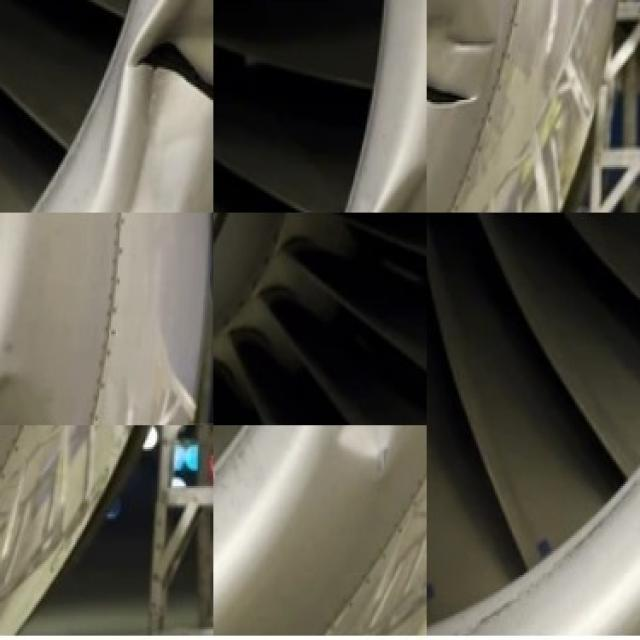crack: (133, 34, 215, 108), (423, 77, 488, 108)
